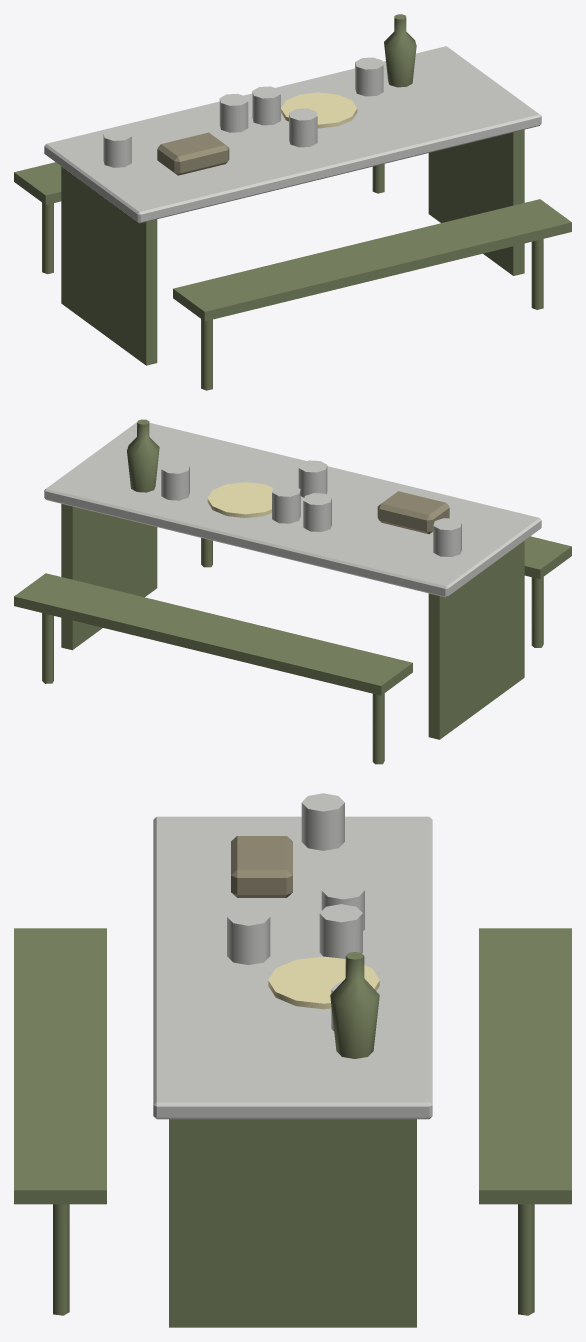
Rendered from bk_table.glb.
The picture shows the model from 3 angles, top to bottom: view 1: azimuth 30°, elevation 25°; view 2: azimuth 150°, elevation 25°; view 3: azimuth 270°, elevation 25°; orthographic projection. The views are drawn at different scales.
Parts seen in each view (by area): view 1: bk_table; view 2: bk_table; view 3: bk_table.
Part boxes in pixels (left/top/right/bottom): bk_table: left=14, top=14, right=571, bottom=390; bk_table: left=14, top=419, right=571, bottom=764; bk_table: left=14, top=793, right=571, bottom=1327.
Size of the model in its own units: 2.2 by 1.17 by 1.8.
